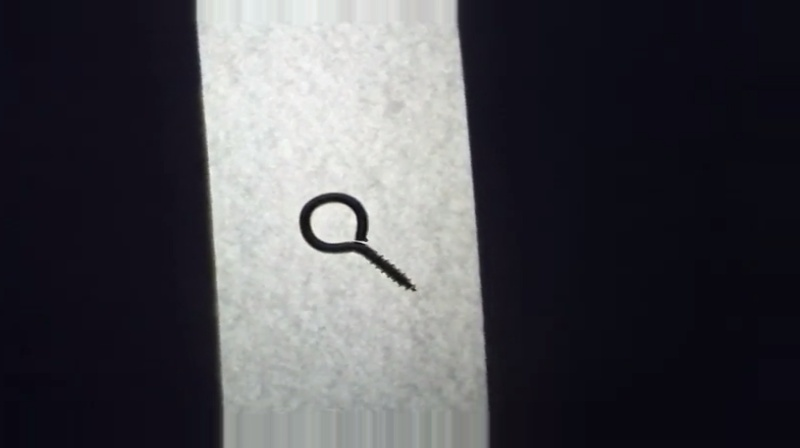O001: (293, 189, 425, 292)
